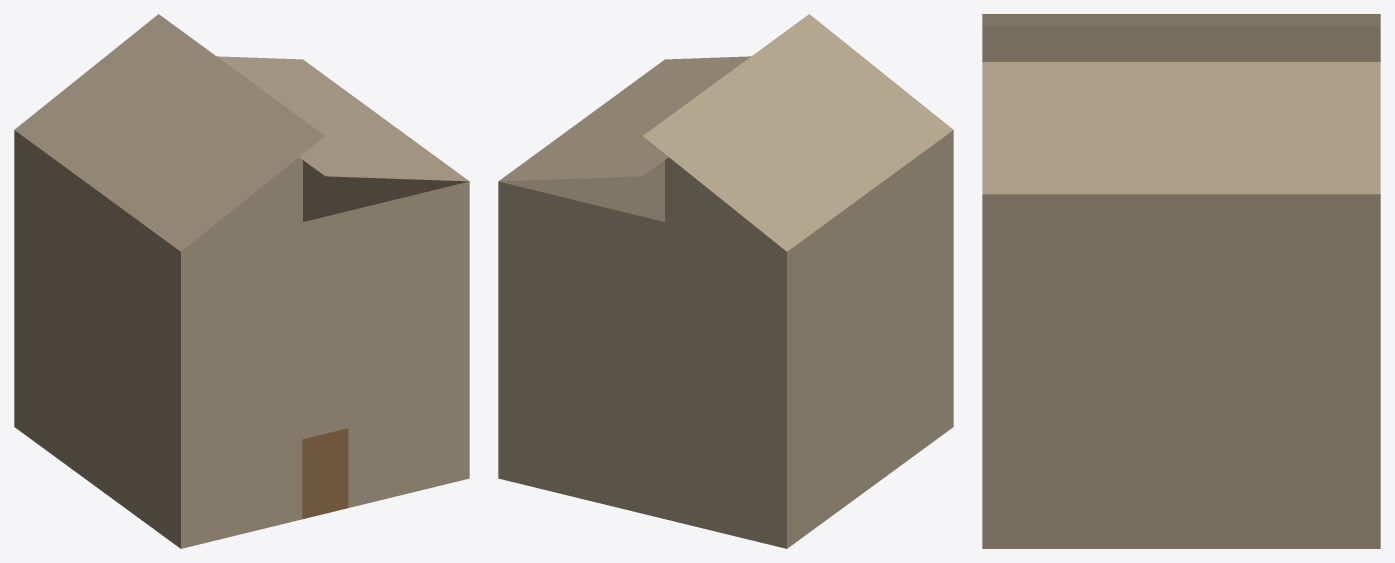
File: box-cardboard.glb
3 views of the same model, side by side, from view 1: azimuth 30°, elevation 25°; view 2: azimuth 150°, elevation 25°; view 3: azimuth 270°, elevation 25° (orthographic). The views are drawn at different scales.
Parts seen in each view (by area): view 1: box-cardboard; view 2: box-cardboard; view 3: box-cardboard.
Part boxes in pixels (left/top/right/bottom): box-cardboard: left=14, top=14, right=469, bottom=548; box-cardboard: left=498, top=14, right=953, bottom=548; box-cardboard: left=982, top=14, right=1380, bottom=548.
Size of the model in its own units: 0.4 by 0.5 by 0.4.
